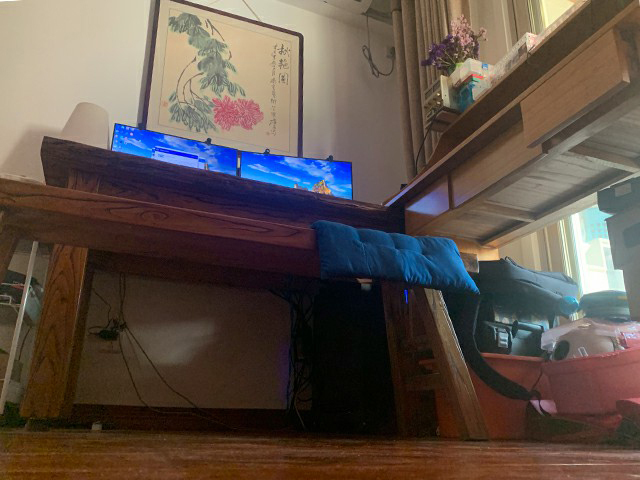stool: (1, 177, 490, 444)
table: (19, 135, 400, 432)
wire: (89, 274, 317, 442)
